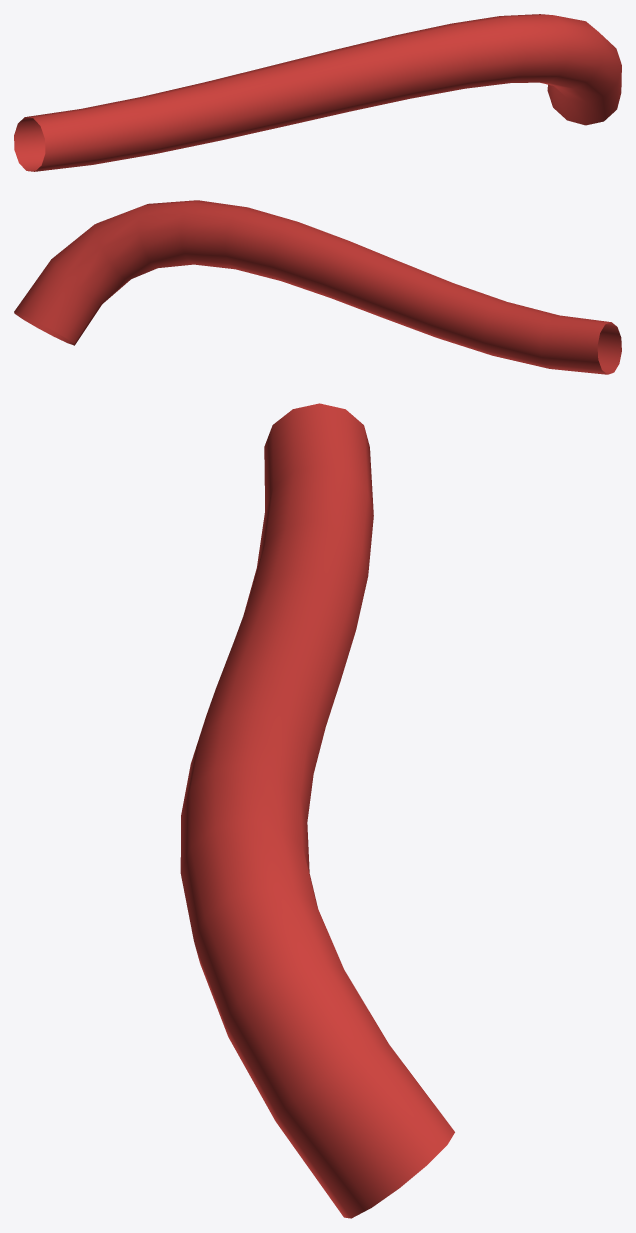
3 renders of one model, top to bottom at view 1: azimuth 30°, elevation 25°; view 2: azimuth 150°, elevation 25°; view 3: azimuth 270°, elevation 25°, orthographic. The views are drawn at different scales.
Visible parts, largest first — view 1: 左侧髂腰动脉脊支; view 2: 左侧髂腰动脉脊支; view 3: 左侧髂腰动脉脊支.
Boxes of the visible parts, left/top/right/bottom form: 左侧髂腰动脉脊支: left=14, top=14, right=621, bottom=171; 左侧髂腰动脉脊支: left=14, top=200, right=621, bottom=374; 左侧髂腰动脉脊支: left=180, top=403, right=454, bottom=1218.
Bounding box in the file's own units: 0.0335 × 0.00827 × 0.00687.
